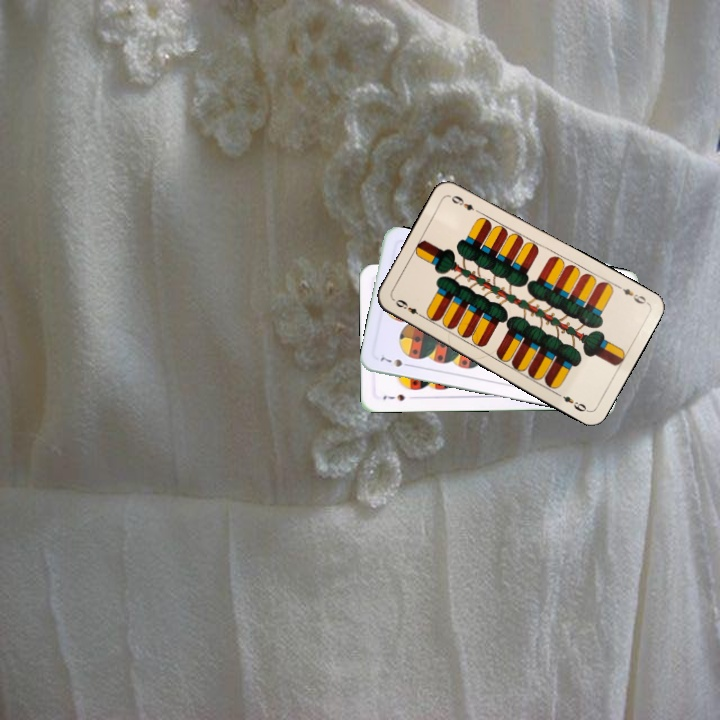E9: (613, 281, 650, 307), (391, 295, 427, 321)
S7: (376, 353, 414, 370), (379, 390, 407, 403)
